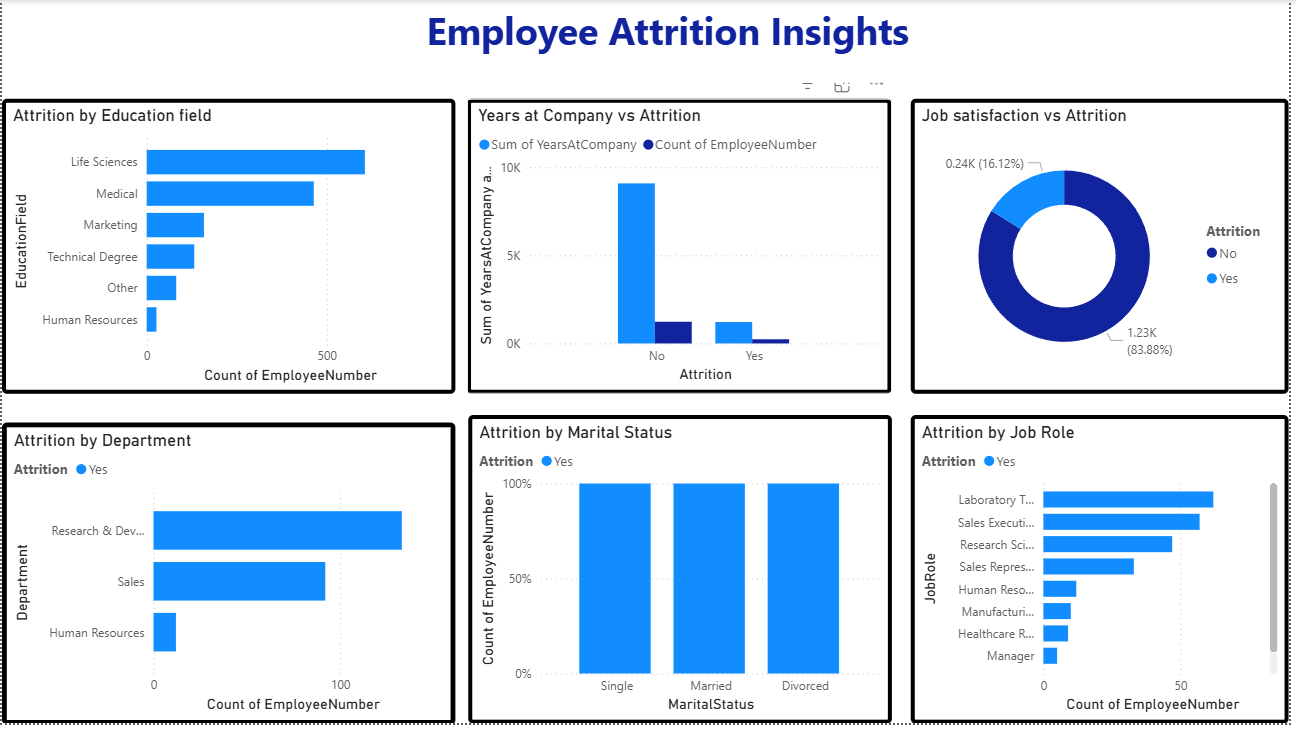

The page's visual inventory and layout, read from the dashboard file:
{"tool":"powerbi","page":{"name":"Page 2","canvas":[1280,720],"ordinal":1},"visuals":[{"type":"clusteredBarChart","title":"Attrition by Education field","fields":{"Category":["HR_Attrition.EducationField"],"Y":["CountNonNull(HR_Attrition.EmployeeNumber)"]},"box":[0,98.8,451.5,293.7],"z":0},{"type":"clusteredColumnChart","title":"Years at Company vs Attrition","fields":{"Category":["HR_Attrition.Attrition"],"Y":["Sum(HR_Attrition.YearsAtCompany)","CountNonNull(HR_Attrition.EmployeeNumber)"]},"box":[462.4,98.8,422.6,293.7],"z":1000},{"type":"hundredPercentStackedColumnChart","title":"Attrition by Marital Status","fields":{"Category":["HR_Attrition.MaritalStatus"],"Y":["CountNonNull(HR_Attrition.EmployeeNumber)"],"Series":["HR_Attrition.Attrition"]},"box":[463.8,413,421.3,307.4],"z":2000},{"type":"clusteredBarChart","title":"Attrition by Department","fields":{"Category":["HR_Attrition.Department"],"Y":["CountNonNull(HR_Attrition.EmployeeNumber)"],"Series":["HR_Attrition.Attrition"]},"box":[0,419.9,451.5,300.5],"z":3000},{"type":"barChart","title":"Attrition by Job Role","fields":{"Category":["HR_Attrition.JobRole"],"Y":["CountNonNull(HR_Attrition.EmployeeNumber)"],"Series":["HR_Attrition.Attrition"]},"box":[904.3,413,376,307.4],"z":4000},{"type":"donutChart","title":"Job satisfaction vs Attrition","fields":{"Category":["HR_Attrition.Attrition"],"Y":["CountNonNull(HR_Attrition.JobSatisfaction)"]},"box":[904.3,98.8,376,293.7],"z":5000},{"type":"textbox","box":[376,0,573.6,82.3],"z":6000}]}

Visuals, with their boxes in screenshot pixels (x1, y1, x2, y2), scaled from the page's 1280x720 canvas onto the 1296x733 screenshot:
"Attrition by Education field" clusteredBarChart: left=0, top=101, right=457, bottom=400
"Years at Company vs Attrition" clusteredColumnChart: left=468, top=101, right=896, bottom=400
"Attrition by Marital Status" hundredPercentStackedColumnChart: left=470, top=420, right=896, bottom=732
"Attrition by Department" clusteredBarChart: left=0, top=427, right=457, bottom=732
"Attrition by Job Role" barChart: left=916, top=420, right=1295, bottom=732
"Job satisfaction vs Attrition" donutChart: left=916, top=101, right=1295, bottom=400
textbox: left=381, top=0, right=961, bottom=84
